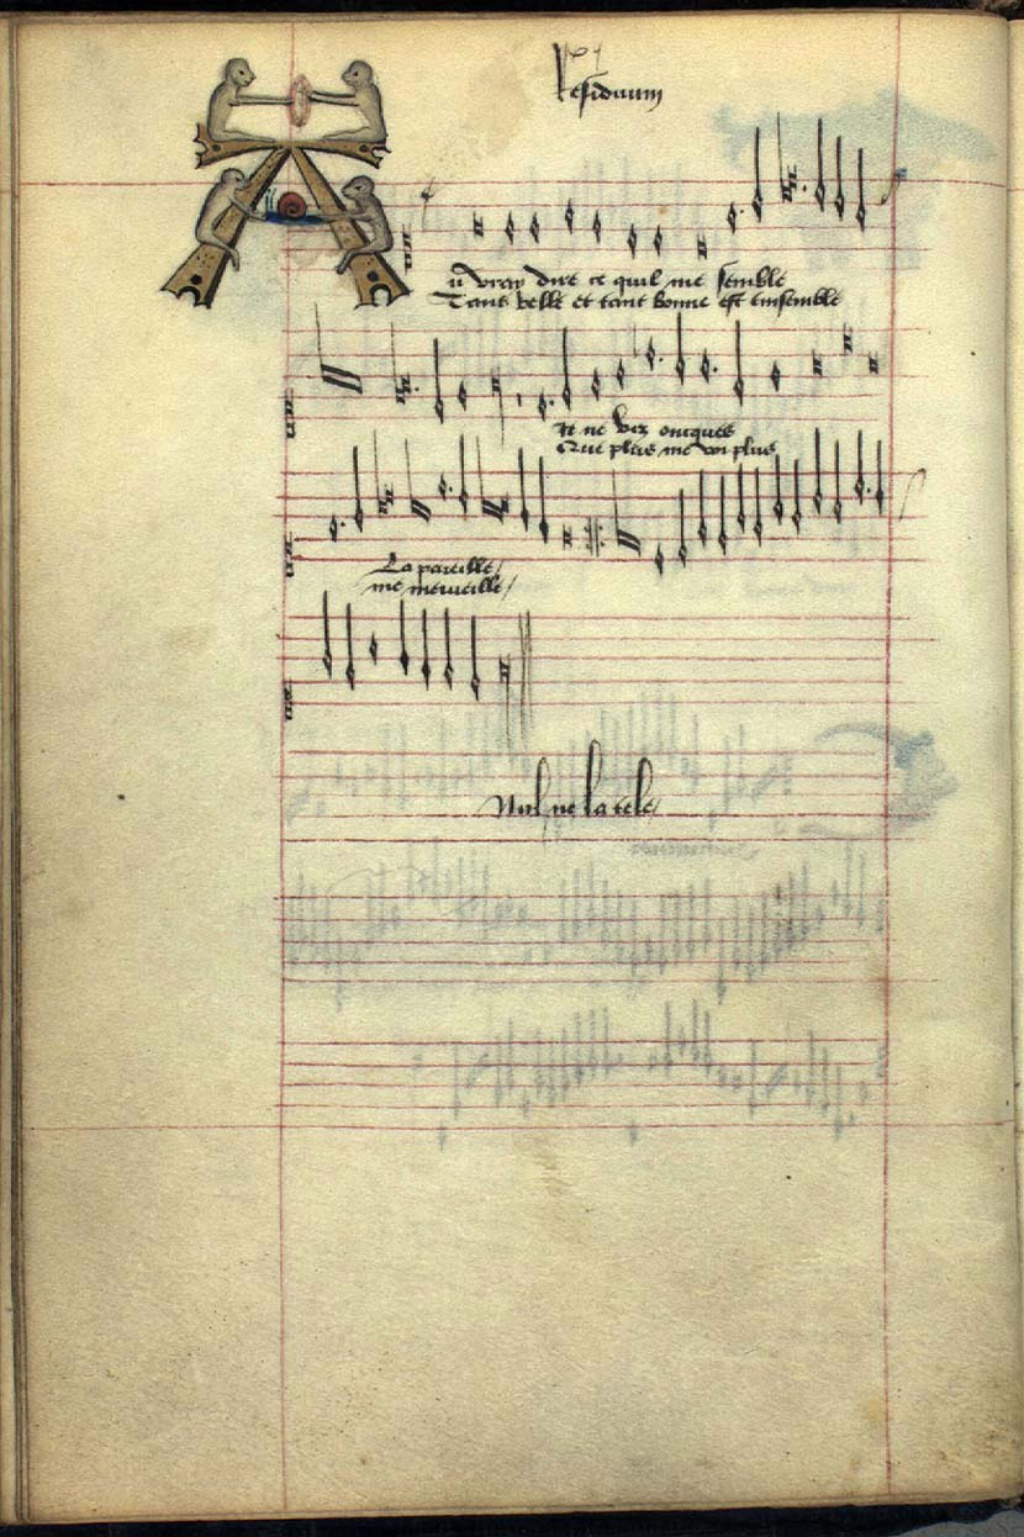barline: (514, 608, 542, 730)
c clef_11: (264, 680, 310, 726)
longa_8: (491, 645, 515, 738)
minim_7: (315, 595, 338, 681)
minim_8: (338, 599, 361, 697), (437, 601, 458, 695)
minim_9: (462, 608, 485, 706)
semibreve_6: (363, 625, 386, 669)
semiminim_7: (393, 595, 414, 683)
semiminim_8: (415, 601, 435, 695)
